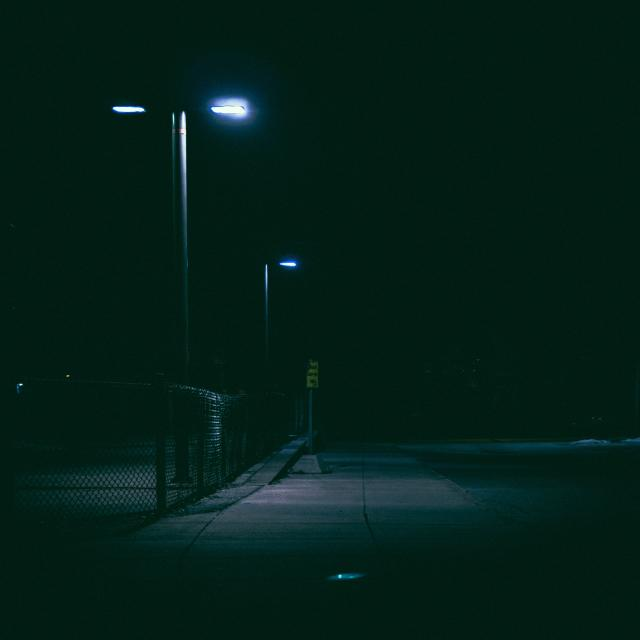Street Light: (111, 100, 248, 488), (260, 259, 300, 446), (15, 383, 25, 397)
